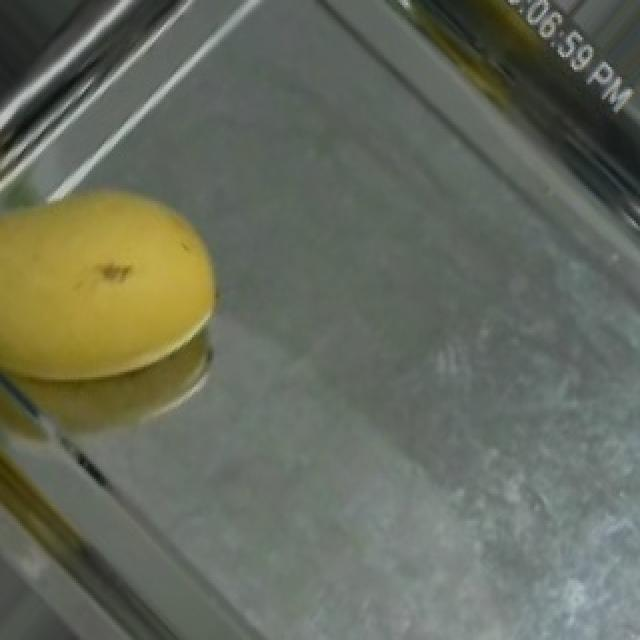fruit: (0, 134, 262, 466)
